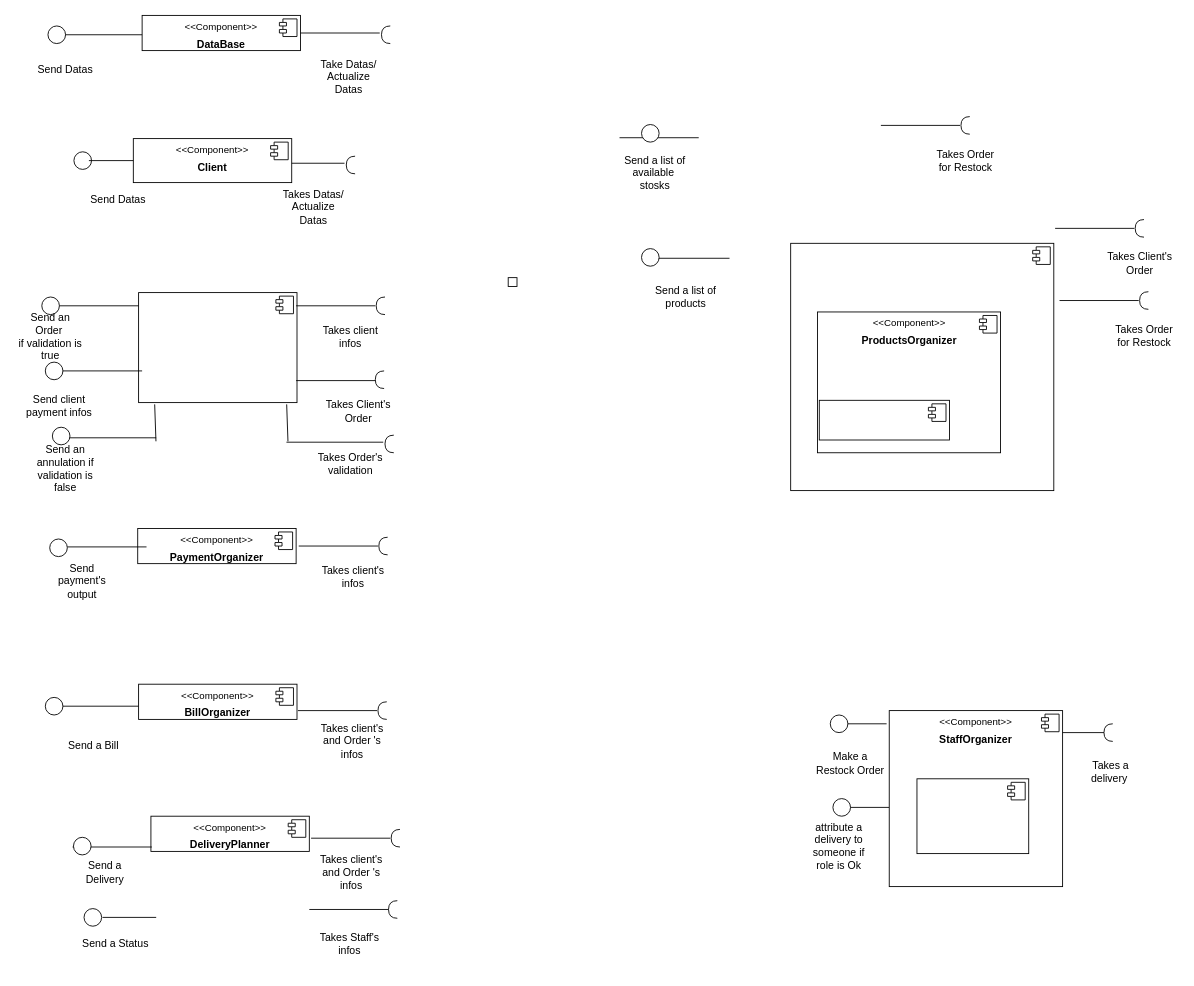
This 1194x986 diagram has some shape labels left out. Here are the shapes that lost their labels. From the top down, the box of each, then its label:
(138, 292, 297, 403): <<Component>> OrderOrganizer
(790, 242, 1054, 491): <<Component>> StocksOrganizer
(818, 399, 950, 440): <<Component>> IngredientsOrganizer
(916, 778, 1029, 854): <<Component>> Saff_roleOrganizer
